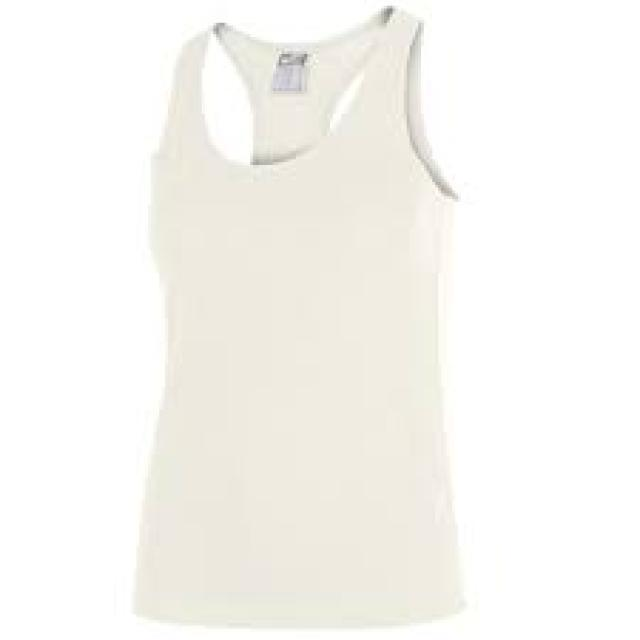no_vest: (130, 4, 466, 630)
